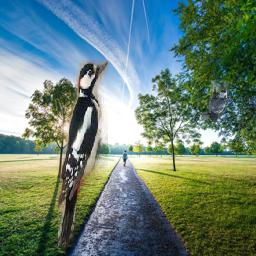Crow: (203, 80, 232, 120)
Woodpecker: (58, 61, 108, 248)
